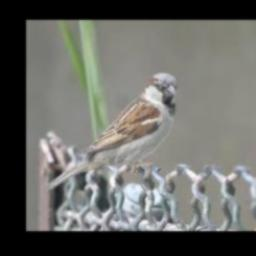Sparrow: (46, 72, 179, 193)
